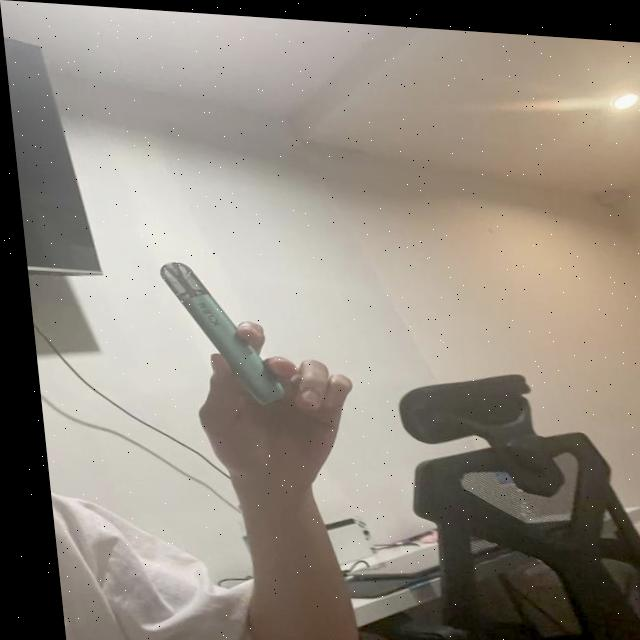vape: (152, 260, 279, 406)
